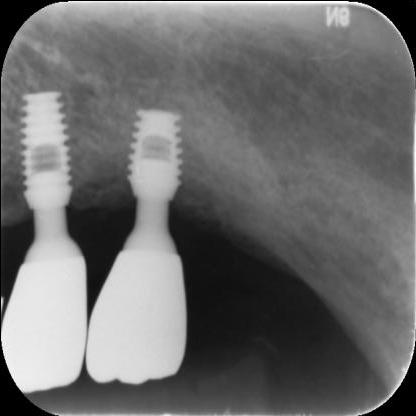Bicon: (15, 84, 72, 215), (124, 101, 188, 204)
